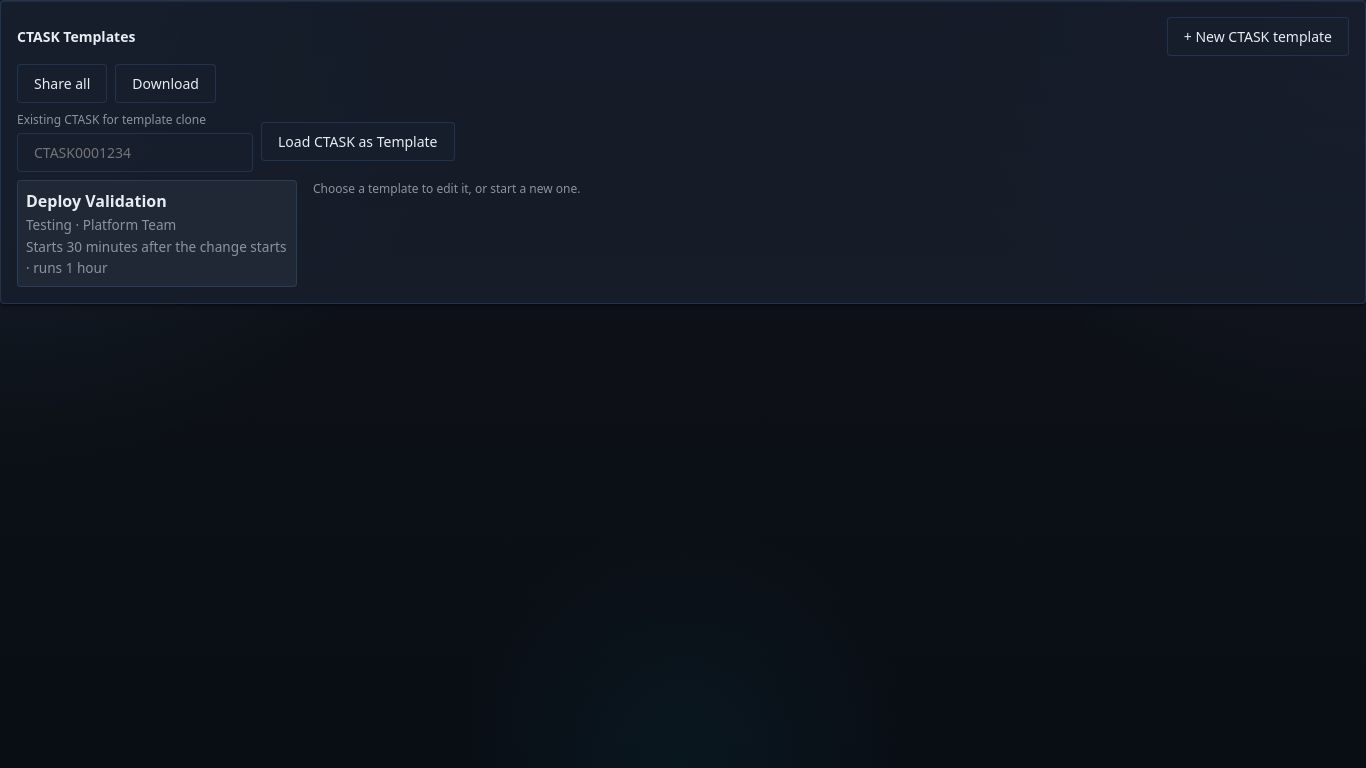
Test case: CtaskTemplateManager › will not save a new template without a name, and says why
The width and height of the screenshot is (1366, 768).
Click the button "+ New CTASK template" at (1258, 36), box [1167,17,1349,56]
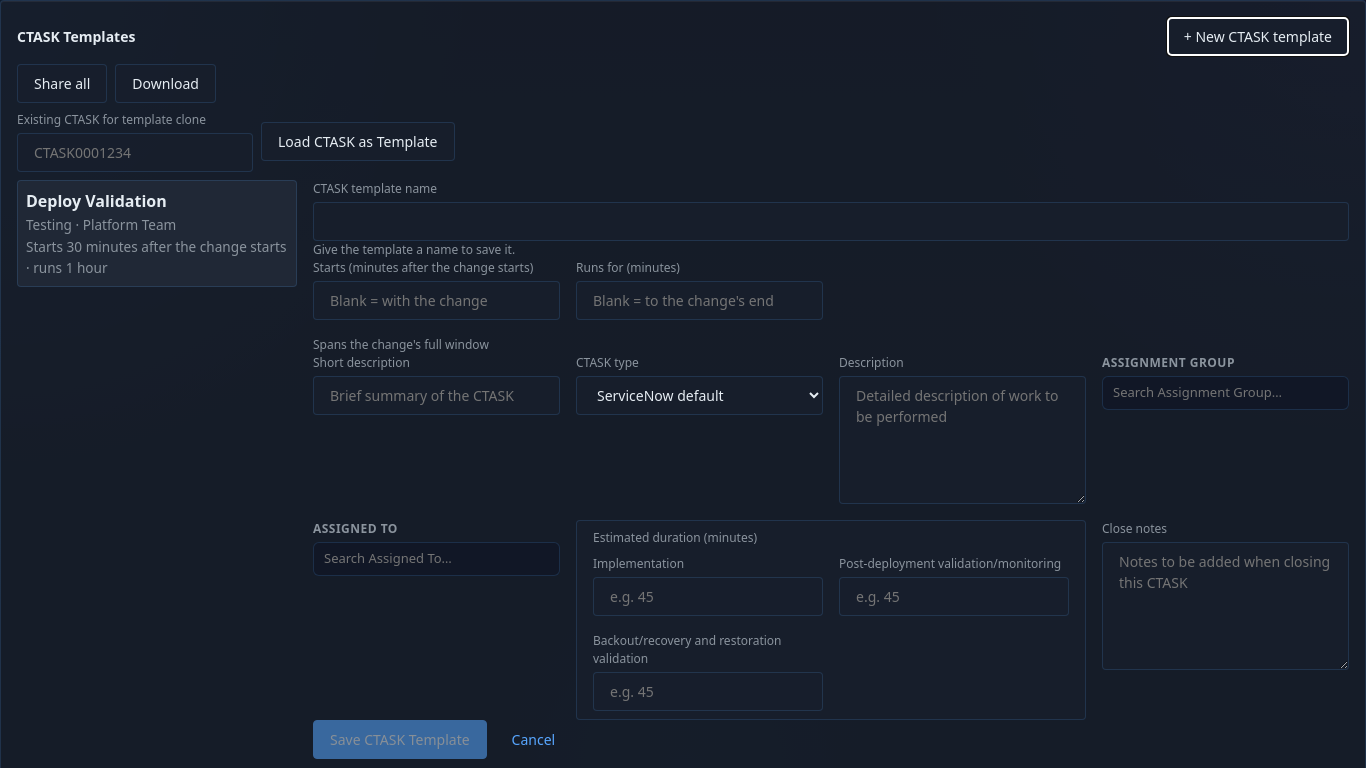
Expected: the button "Save CTASK Template" is disabled, [313,720,487,759]
Expected: the text "Give the template a name to save it." is shown, [313,241,515,258]
